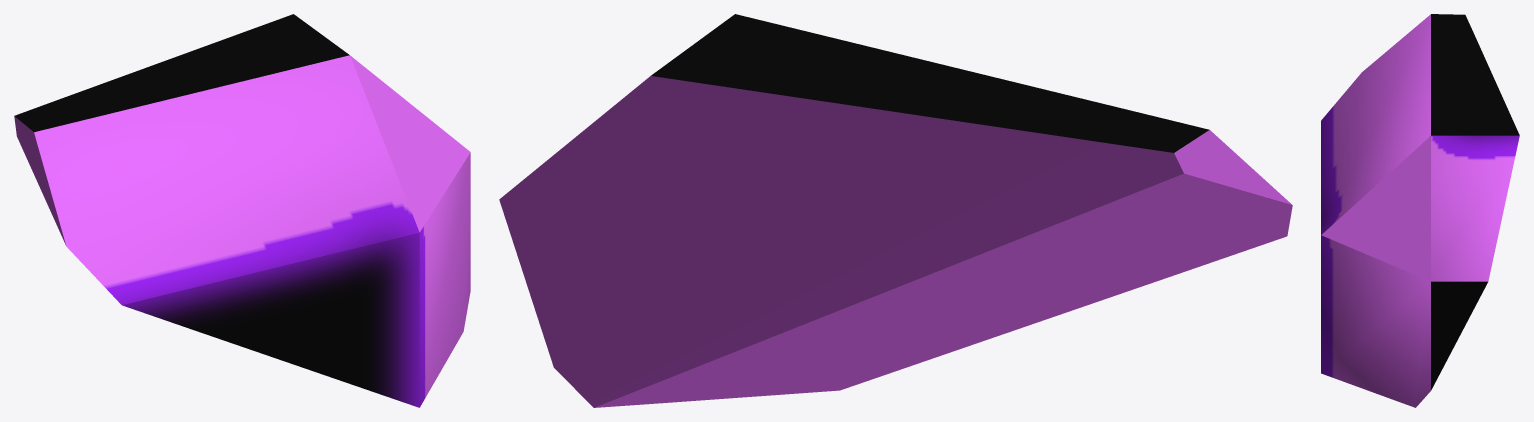
Rendered from blockParticle_13.gltf.
3 renders of one model, left to right at view 1: azimuth 30°, elevation 25°; view 2: azimuth 150°, elevation 25°; view 3: azimuth 270°, elevation 25°, orthographic. The views are drawn at different scales.
Visible parts, largest first — view 1: 立方体_cell.015; view 2: 立方体_cell.015; view 3: 立方体_cell.015.
Part boxes in pixels (left/top/right/bottom): 立方体_cell.015: left=14, top=14, right=470, bottom=407; 立方体_cell.015: left=499, top=14, right=1292, bottom=407; 立方体_cell.015: left=1321, top=14, right=1519, bottom=407.
Bounding box in the file's own units: 0.7867 × 0.5062 × 0.3832.
Materials: 2 (2 with a texture image).
